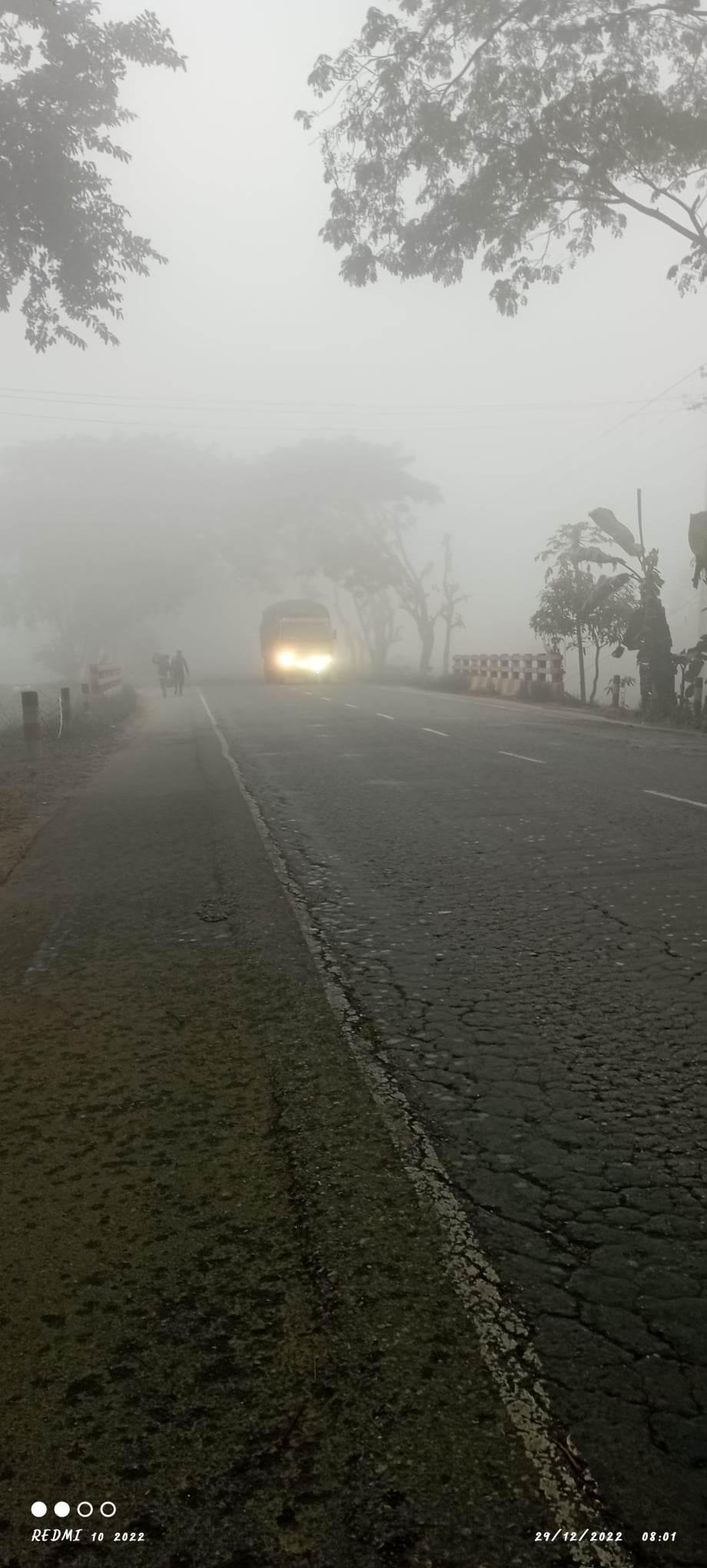Truck: (250, 583, 361, 709)
